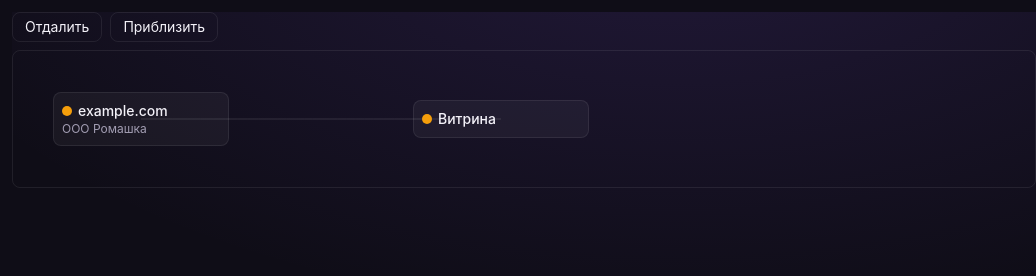
it: карта доменов › выделение корня открывает панель с владельцем и поддоменами
Click the button with aria-label "Домен example.com" at (141, 119), box [53,92,229,146]
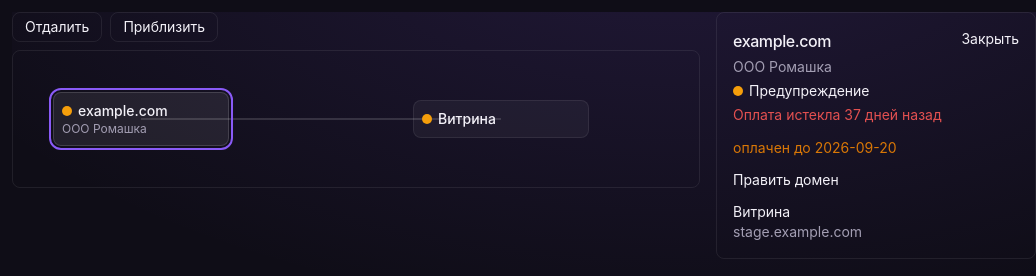
Check: the element that starts with "example.com" shows "ООО Ромашка", box [733,58,832,75]
Check: the element that starts with "example.com" shows "stage.example.com", box [733,223,862,240]
Check: the element that starts with "example.com" shows "оплачен до 2026-09-20", box [733,139,897,156]
